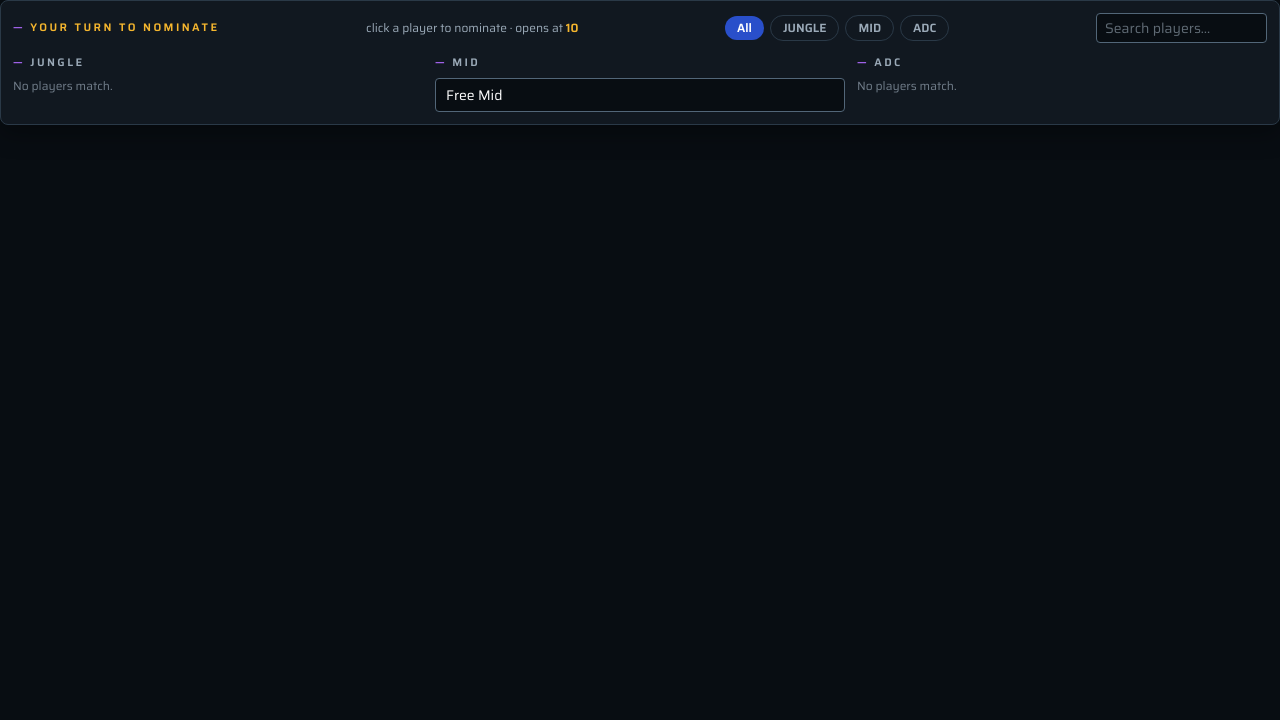
Test: NominationPicker opening bid › defaults the opening bid to the round minimum and shows the range
Step 1. Click the text "Free Mid" → (474, 94), box x1=446 y1=84 x2=502 y2=104
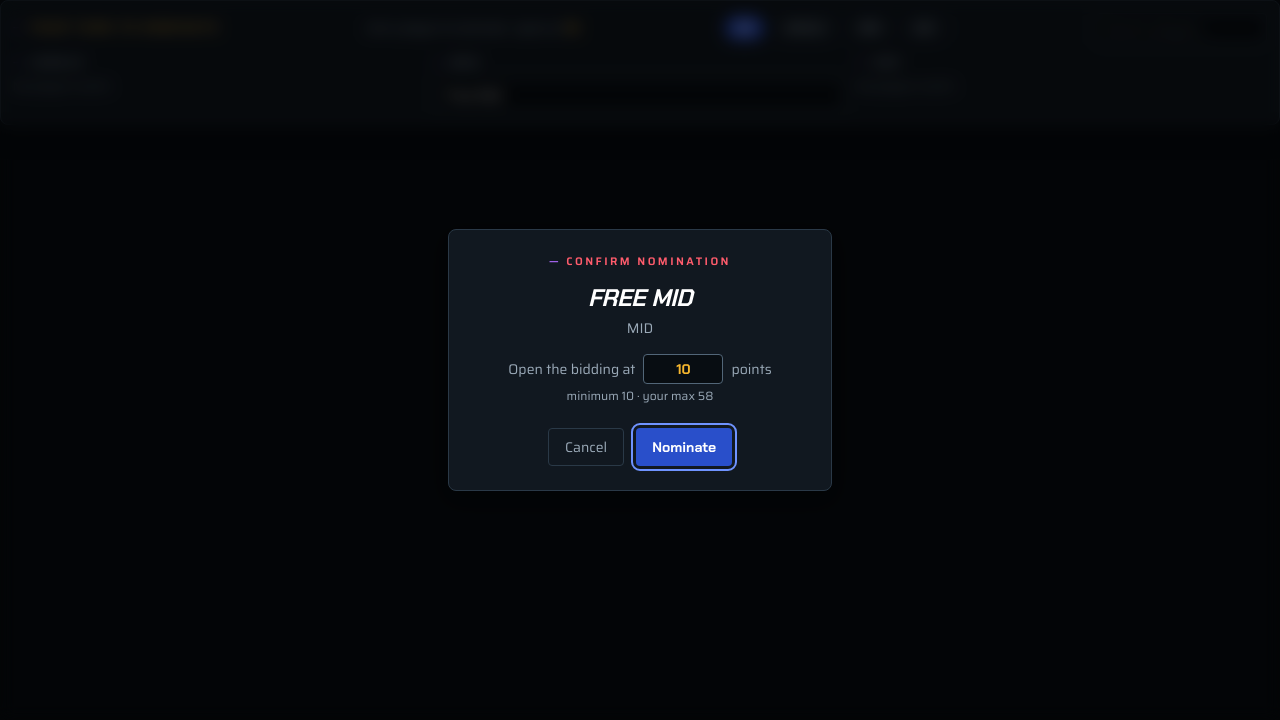
Result: the field named "Opening bid" holds "10" at x1=643 y1=354 x2=723 y2=384
Result: the text "minimum 10 · your max 58" is shown at x1=567 y1=386 x2=714 y2=405
